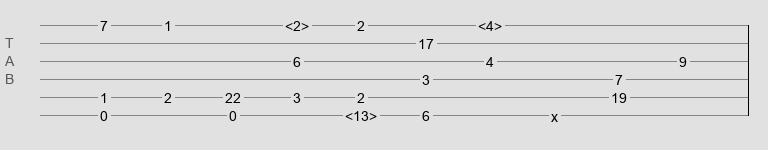0: (100, 108, 108, 118), (229, 108, 237, 118)
1: (100, 90, 108, 100), (164, 18, 172, 28)
17: (418, 36, 434, 46)
19: (611, 90, 627, 100)
2: (164, 90, 172, 100), (357, 18, 365, 28), (357, 90, 365, 100)
22: (225, 90, 241, 100)
3: (293, 90, 301, 100), (422, 72, 430, 82)
4: (486, 54, 494, 64)
6: (293, 54, 301, 64), (422, 108, 430, 118)
7: (100, 18, 108, 28), (615, 72, 623, 82)
9: (679, 54, 687, 64)
harmonic: (345, 108, 377, 118), (285, 18, 309, 28), (478, 18, 502, 28)
x: (551, 109, 558, 117)
